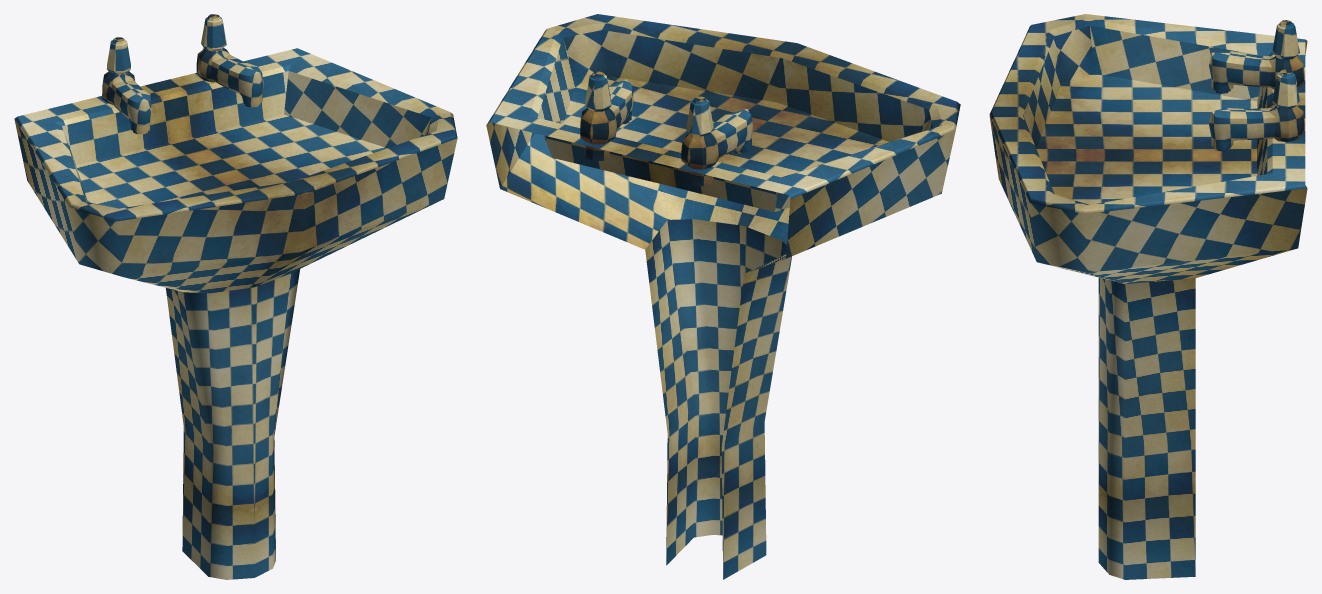
File: Sink.fbx
The picture shows the model from 3 angles, left to right: view 1: azimuth 30°, elevation 25°; view 2: azimuth 150°, elevation 25°; view 3: azimuth 270°, elevation 25°; orthographic projection. The views are drawn at different scales.
Visible parts, largest first — view 1: Sink; view 2: Sink; view 3: Sink.
Part boxes in pixels (<box>): Sink: <box>14,14,457,579</box>; Sink: <box>486,14,960,579</box>; Sink: <box>989,14,1307,579</box>.
Bounding box in the file's own units: 0.0174 × 0.021 × 0.0118.
